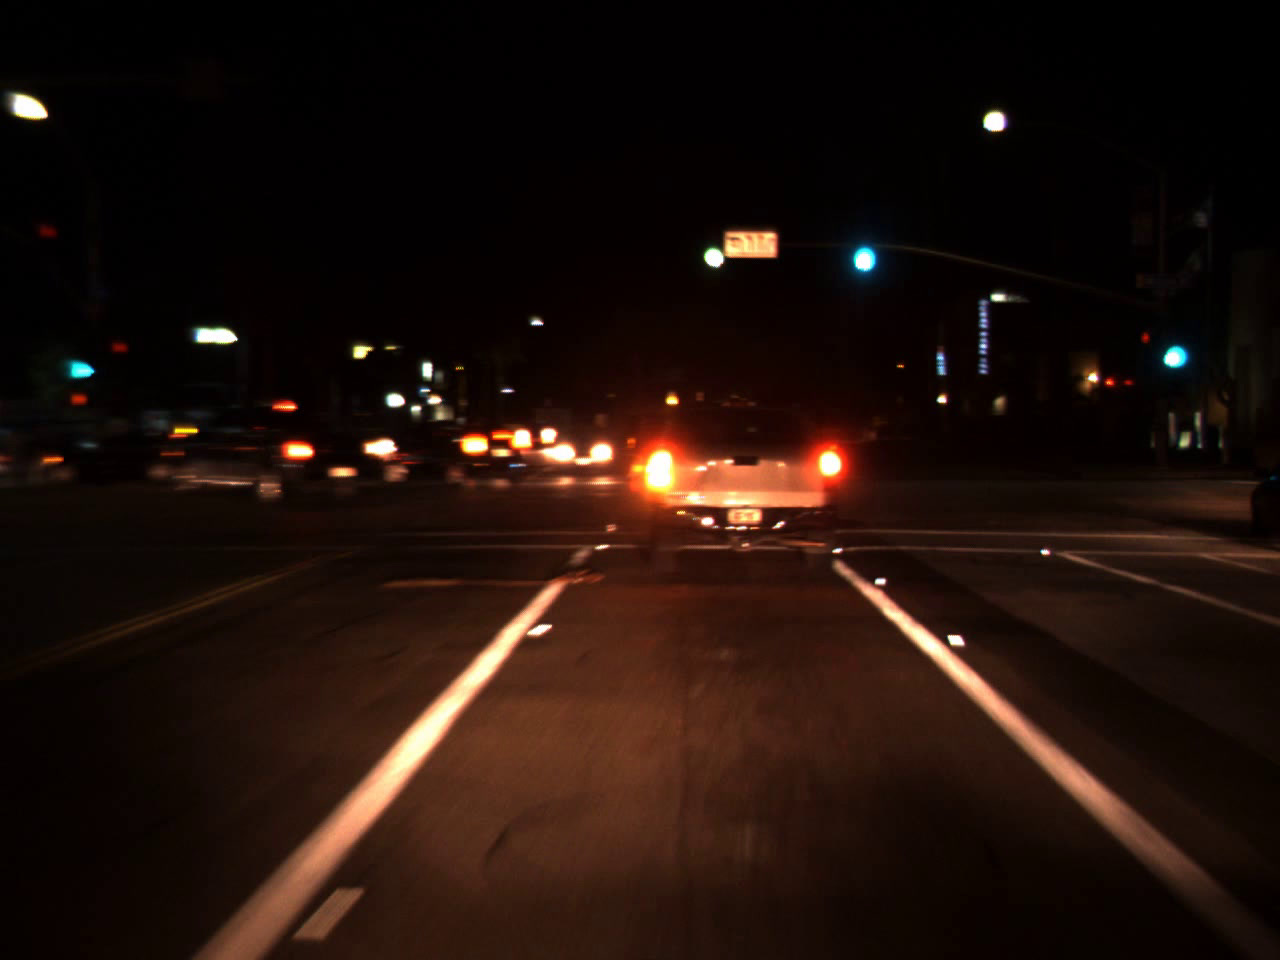go: (844, 215, 880, 281), (1156, 317, 1192, 377), (692, 226, 729, 274), (61, 342, 100, 384)
